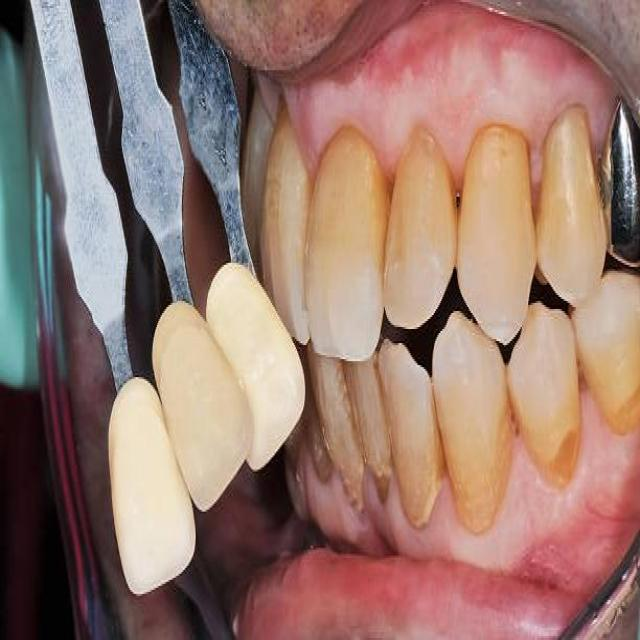caries: (547, 420, 594, 513), (367, 449, 397, 522)
